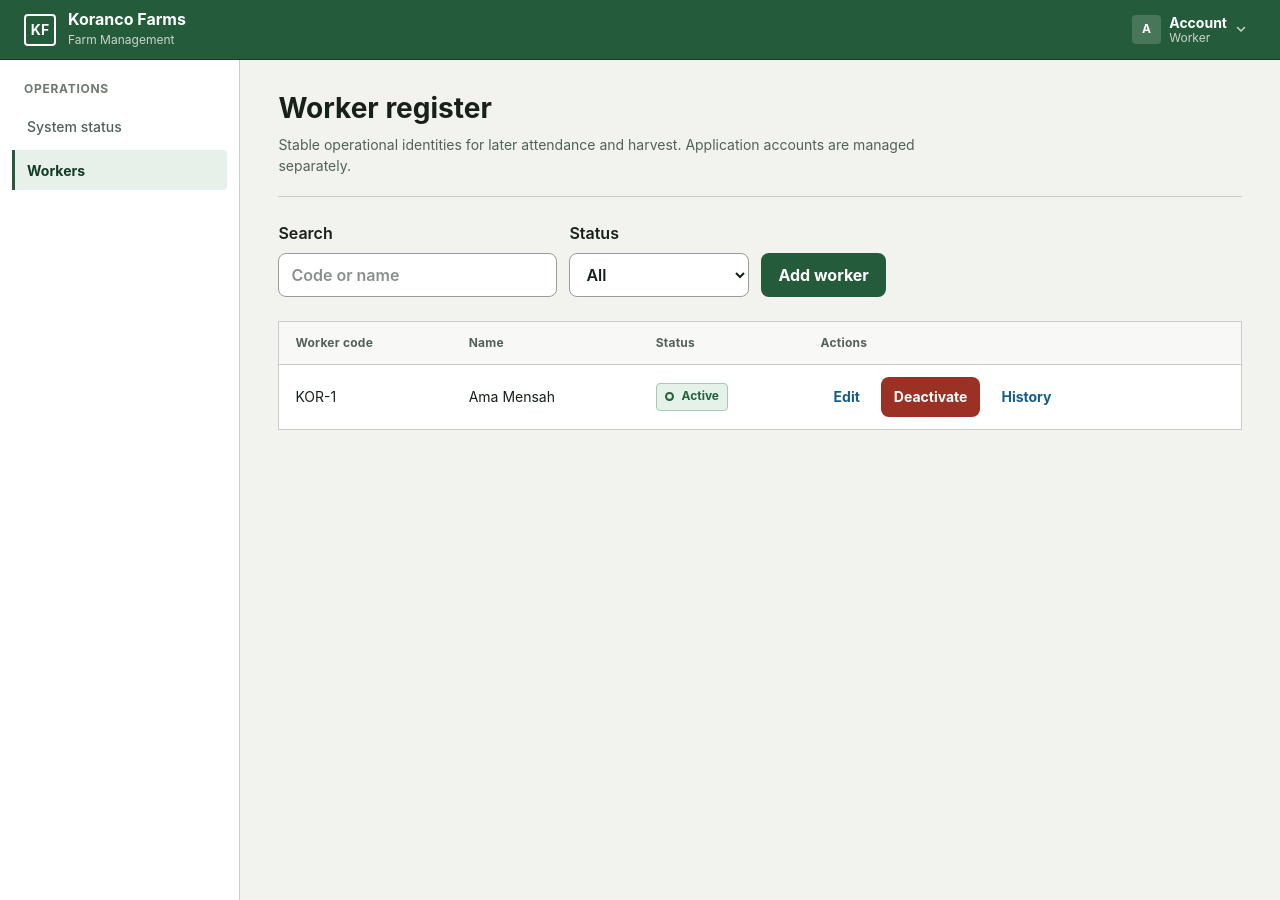
Test case: WorkerRegister › shows a compact worker list and search-driven no-results state
Check: the table "Worker register" is shown, box [279,322,1241,429]
In the field with placeholder "Code or name": x=418, y=275 [278,253,557,297], type "missing"
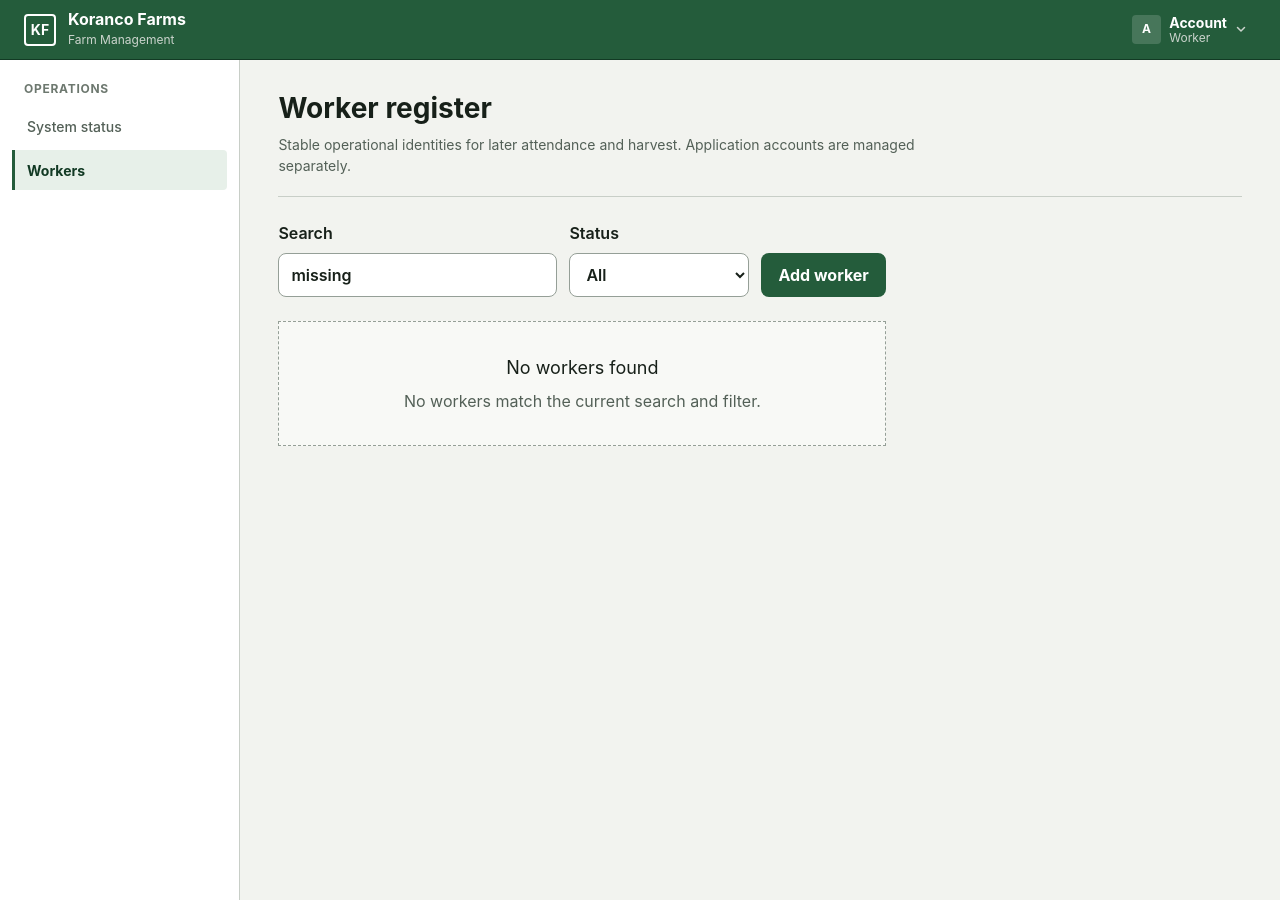
Check: the text "No workers match the current search and filter." is shown, box [404,391,761,411]
